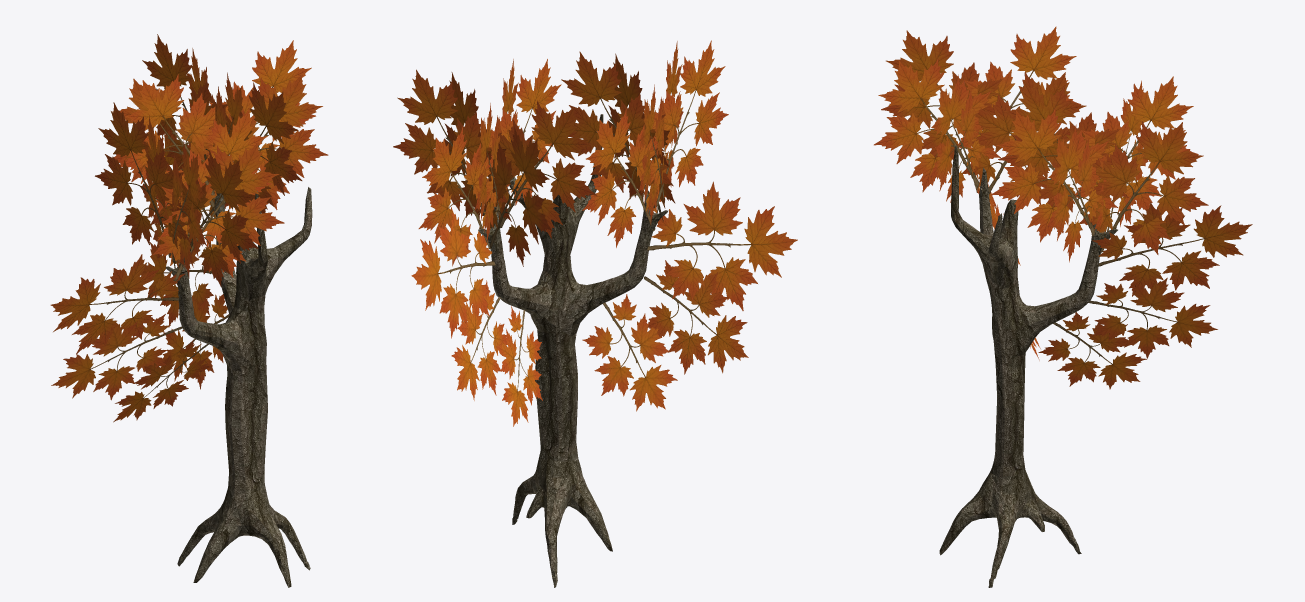
The model's file is Tree09.glb.
The picture shows the model from 3 angles, left to right: view 1: azimuth 30°, elevation 25°; view 2: azimuth 150°, elevation 25°; view 3: azimuth 270°, elevation 25°; orthographic projection.
Parts seen in each view (by area): view 1: tree09LOD0; view 2: tree09LOD0; view 3: tree09LOD0.
Part boxes in pixels (left/top/right/bottom): tree09LOD0: left=50, top=34, right=328, bottom=587; tree09LOD0: left=393, top=40, right=797, bottom=587; tree09LOD0: left=874, top=26, right=1252, bottom=587.
Size of what is drawn, in the model's own units: 5.23 by 6.54 by 5.18.
Materials: 2 (2 with a texture image).
